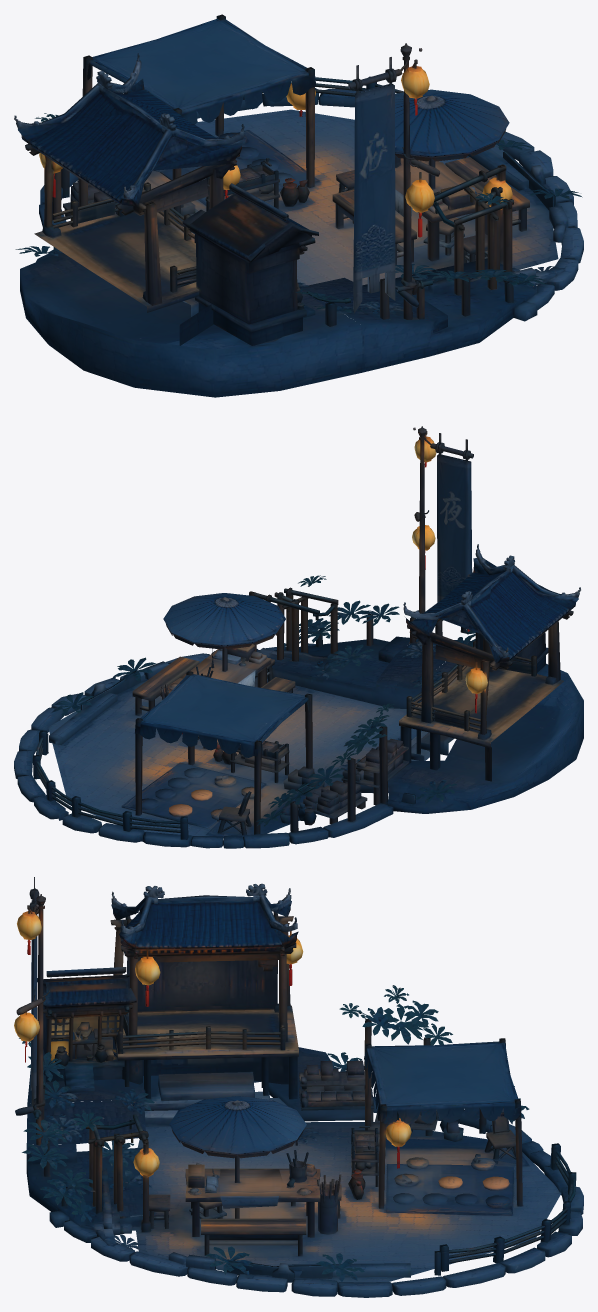
Rendered from evening.glb.
The picture shows the model from 3 angles, top to bottom: view 1: azimuth 30°, elevation 25°; view 2: azimuth 150°, elevation 25°; view 3: azimuth 270°, elevation 25°; orthographic projection. The views are drawn at different scales.
Parts seen in each view (by area): view 1: d3d95ab1_72ef_4c8a_ac2f_0c70d49a0367; view 2: d3d95ab1_72ef_4c8a_ac2f_0c70d49a0367; view 3: d3d95ab1_72ef_4c8a_ac2f_0c70d49a0367.
Part boxes in pixels (bbox=[...]): d3d95ab1_72ef_4c8a_ac2f_0c70d49a0367: bbox=[14, 14, 583, 397]; d3d95ab1_72ef_4c8a_ac2f_0c70d49a0367: bbox=[14, 426, 583, 848]; d3d95ab1_72ef_4c8a_ac2f_0c70d49a0367: bbox=[14, 877, 583, 1297].
Bounding box in the file's own units: 0.9956 × 0.5376 × 0.9995.
Materials: 1 (1 with a texture image).
